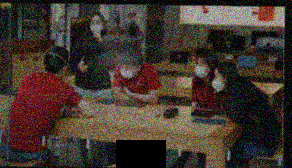with_mask: (211, 72, 225, 92), (119, 63, 137, 78), (193, 60, 208, 77), (89, 17, 103, 32)
